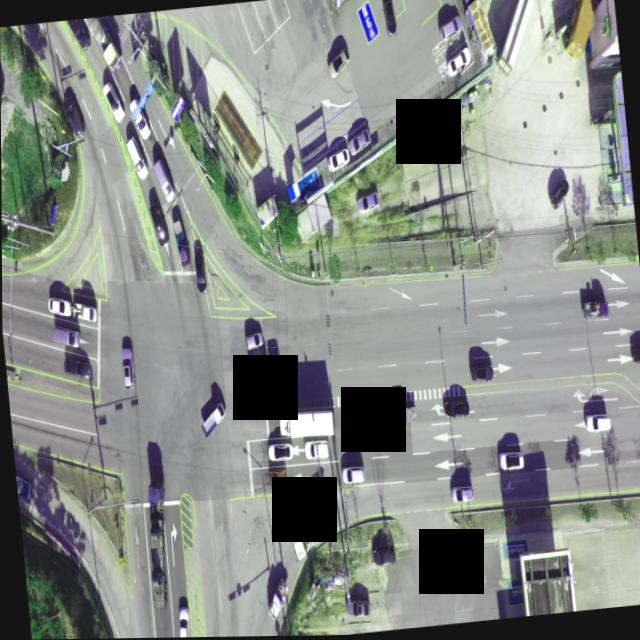car: (124, 134, 148, 183), (63, 88, 85, 139), (153, 157, 176, 204), (129, 94, 151, 140), (103, 80, 126, 123), (66, 18, 89, 55), (151, 201, 169, 244), (327, 48, 351, 79), (194, 244, 208, 295), (549, 179, 571, 211), (64, 355, 92, 380), (448, 46, 472, 75), (52, 322, 80, 346), (119, 346, 134, 390), (348, 128, 372, 154), (438, 15, 462, 41), (47, 294, 73, 318), (327, 149, 351, 174), (498, 451, 525, 473), (583, 414, 610, 434), (355, 192, 379, 214), (303, 440, 328, 461), (446, 399, 471, 419), (385, 0, 398, 38), (267, 443, 291, 463), (176, 605, 190, 638), (340, 466, 363, 486), (452, 486, 475, 506), (372, 547, 395, 567), (469, 364, 493, 383), (245, 332, 264, 351), (350, 599, 369, 617), (267, 467, 286, 484), (630, 347, 640, 366)
large_truck: (140, 484, 174, 611)
medium_truck: (493, 0, 547, 78), (85, 15, 122, 75), (276, 406, 334, 440), (289, 516, 330, 564), (252, 368, 285, 396)
small_truck: (265, 578, 291, 621), (171, 214, 190, 271), (201, 401, 229, 437), (73, 299, 97, 324), (583, 301, 610, 322), (390, 405, 416, 425)
